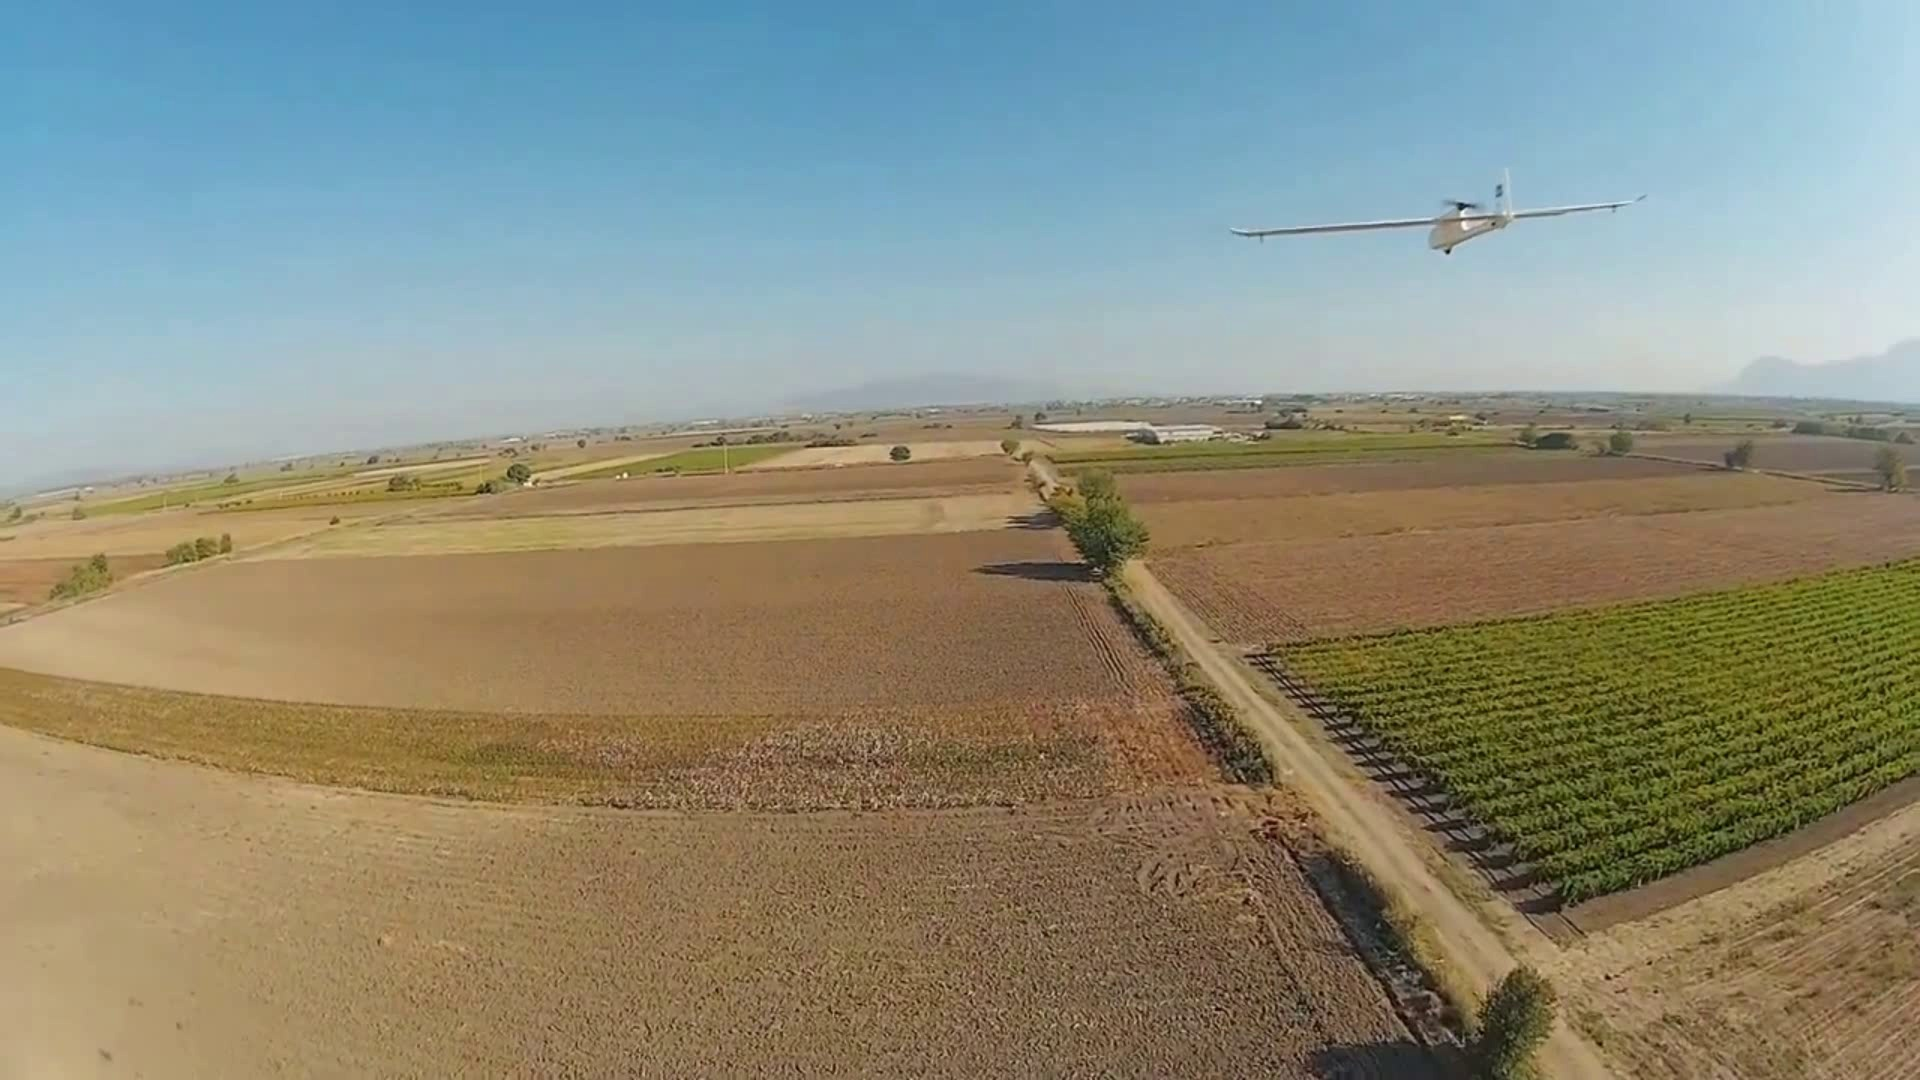airplane: (1230, 169, 1645, 255)
